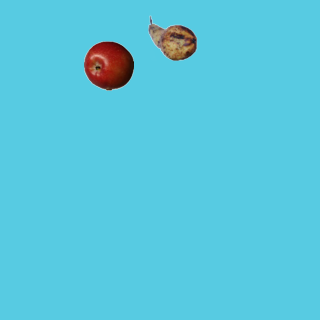Apple Braeburn: (83, 40, 133, 90)
Pear Abate: (147, 13, 197, 63)
